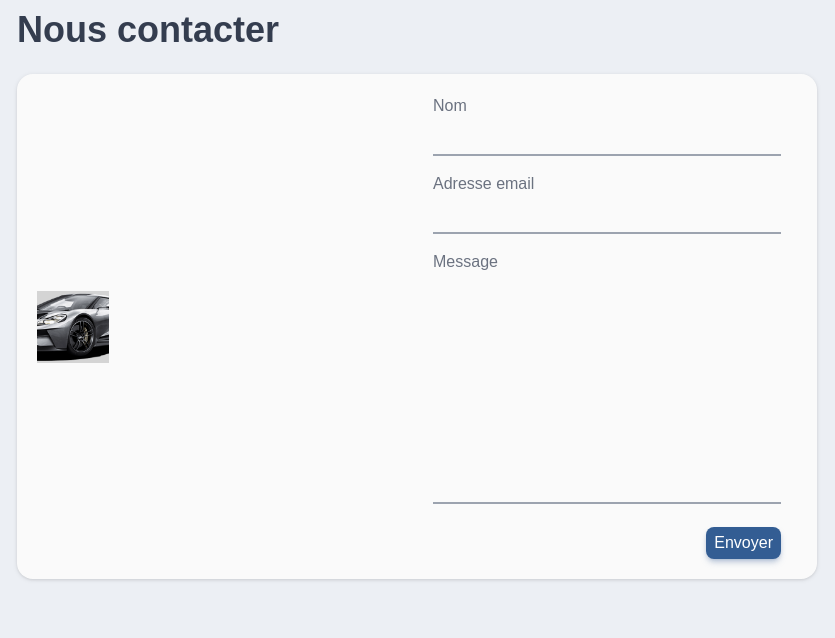
Test: ContactFormTest › should render the fields error
Click the button "Envoyer".
click(744, 543)  # box x1=706 y1=527 x2=781 y2=559
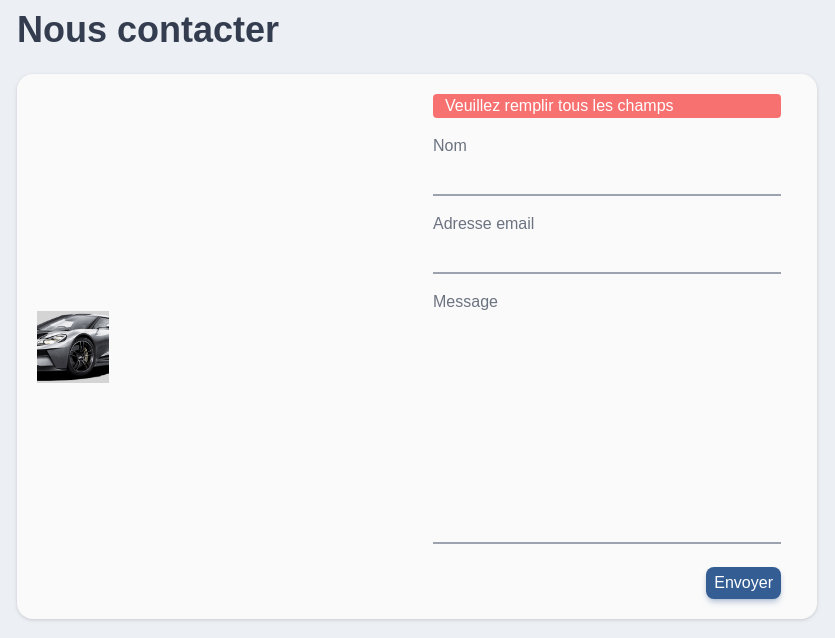
Check: the text "Veuillez remplir tous les champs" is shown, box x1=433 y1=94 x2=781 y2=118
